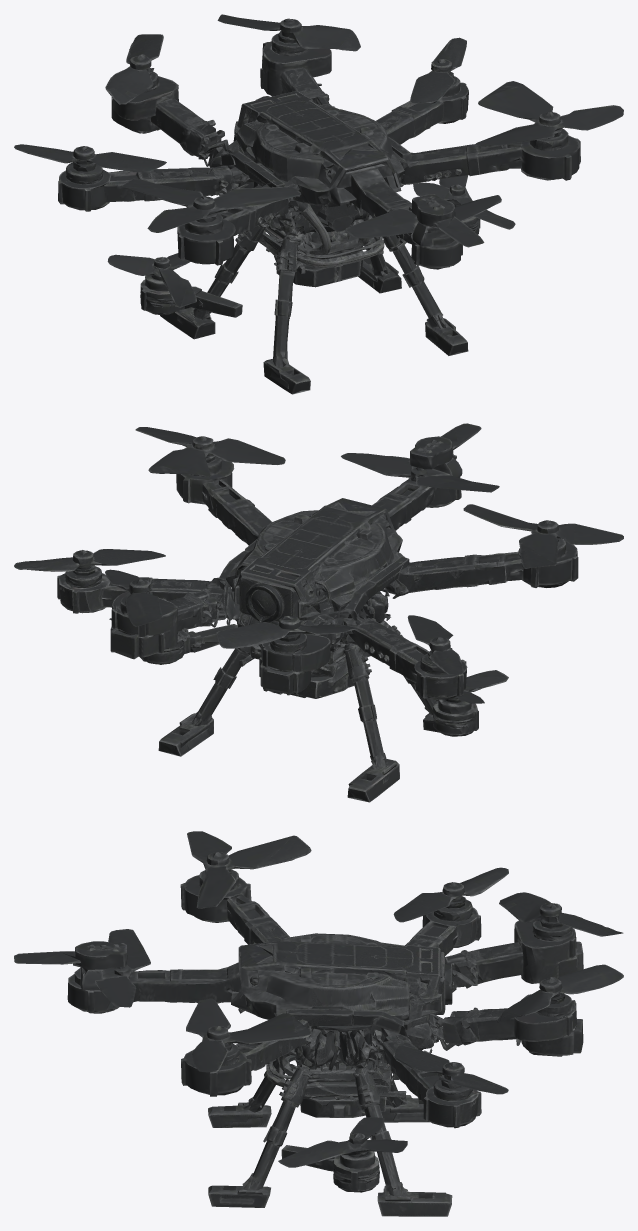
File: drone_tempest.glb
3 renders of one model, top to bottom at view 1: azimuth 30°, elevation 25°; view 2: azimuth 150°, elevation 25°; view 3: azimuth 270°, elevation 25°, orthographic. The views are drawn at different scales.
Visible parts, largest first — view 1: drone_tempest; view 2: drone_tempest; view 3: drone_tempest.
Part boxes in pixels (x1,y1,x2,y2): drone_tempest: (14, 14, 623, 394); drone_tempest: (14, 423, 623, 802); drone_tempest: (14, 831, 623, 1216).
Bounding box in the file's own units: 1.92 × 0.8336 × 2.05.
Materials: 1 (1 with a texture image).
